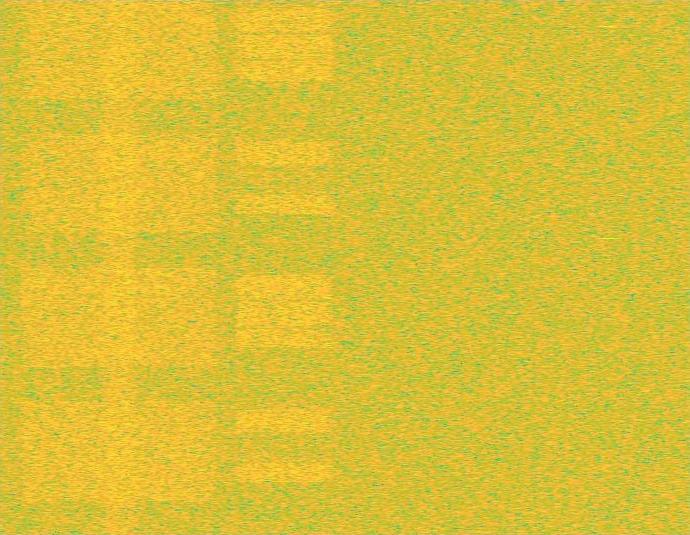5G: (16, 0, 223, 534)
DSSS: (96, 0, 143, 534)
LTE: (233, 0, 336, 534)
Radar: (601, 0, 615, 534)
